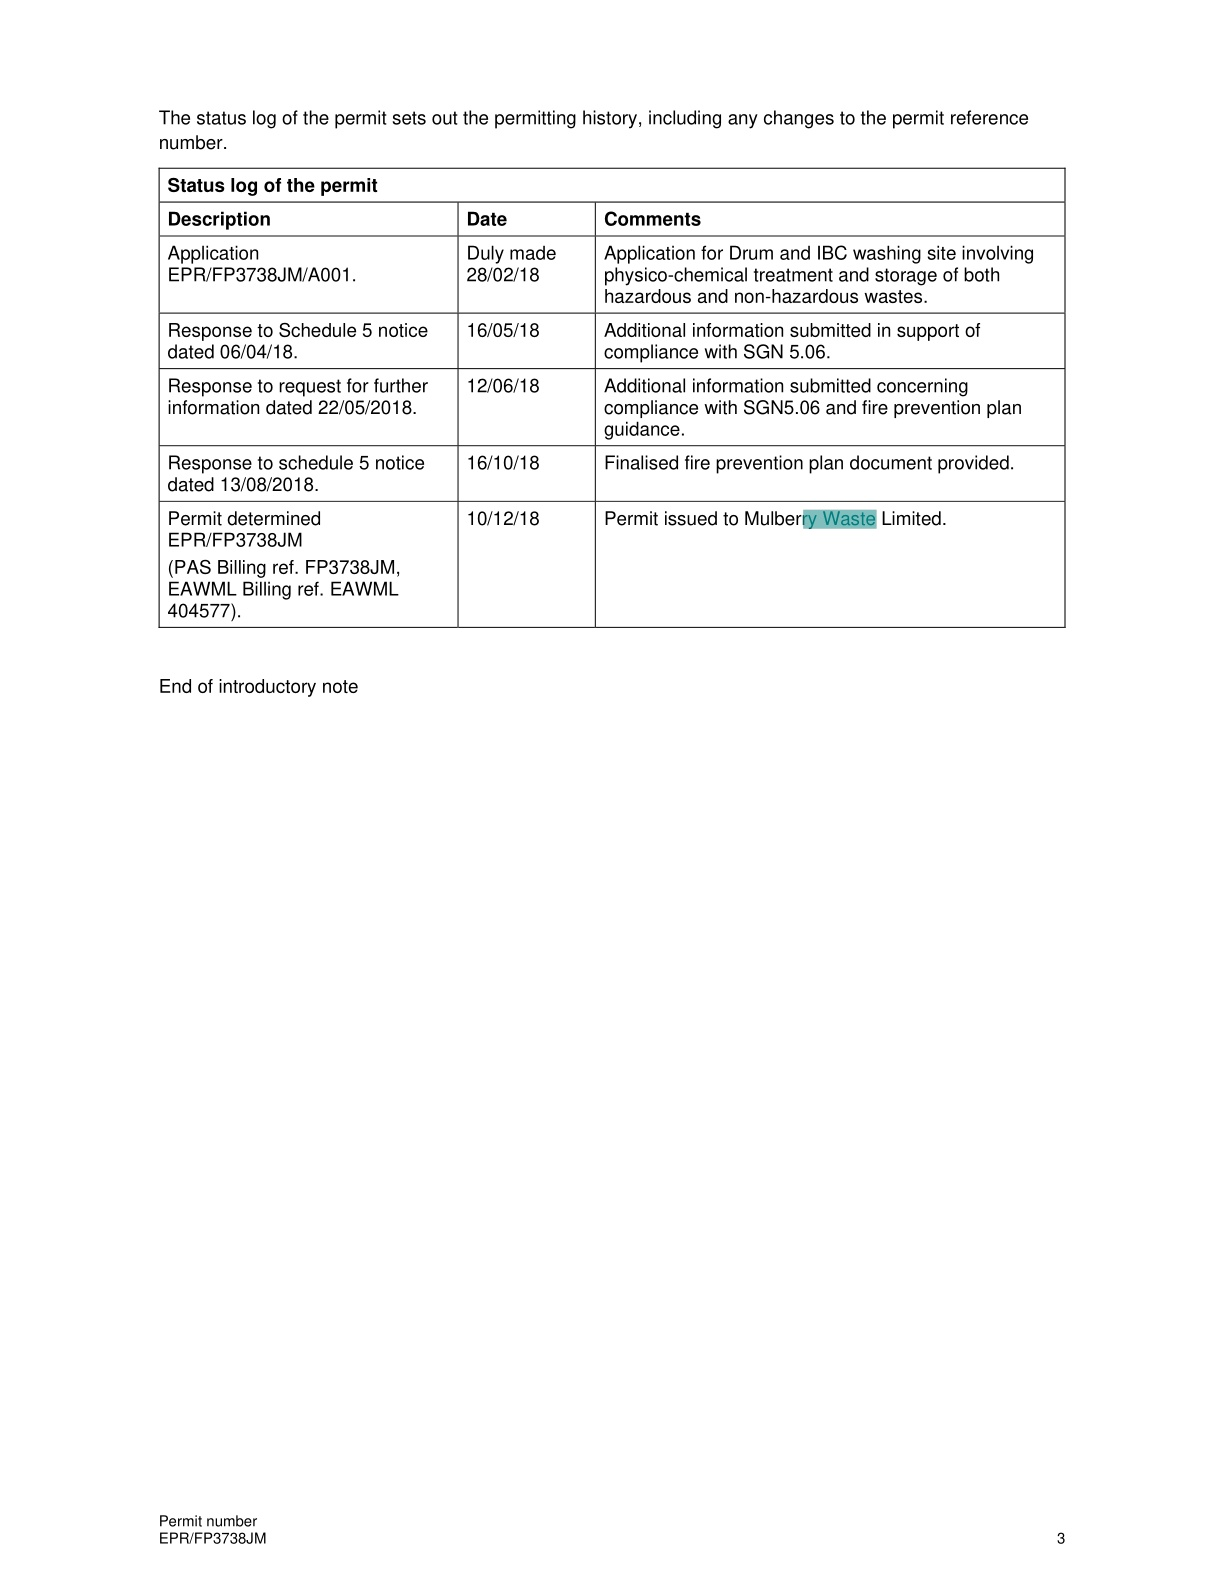merged_cells: (157, 167, 1067, 629)
